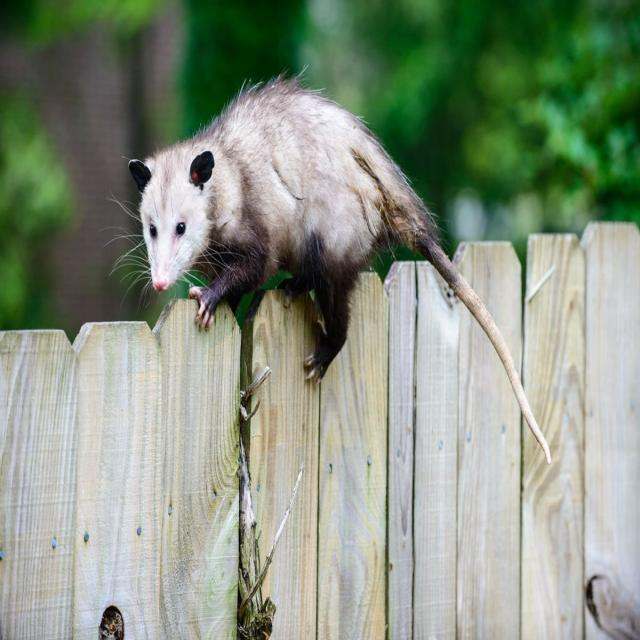Possum: (117, 52, 558, 464)
